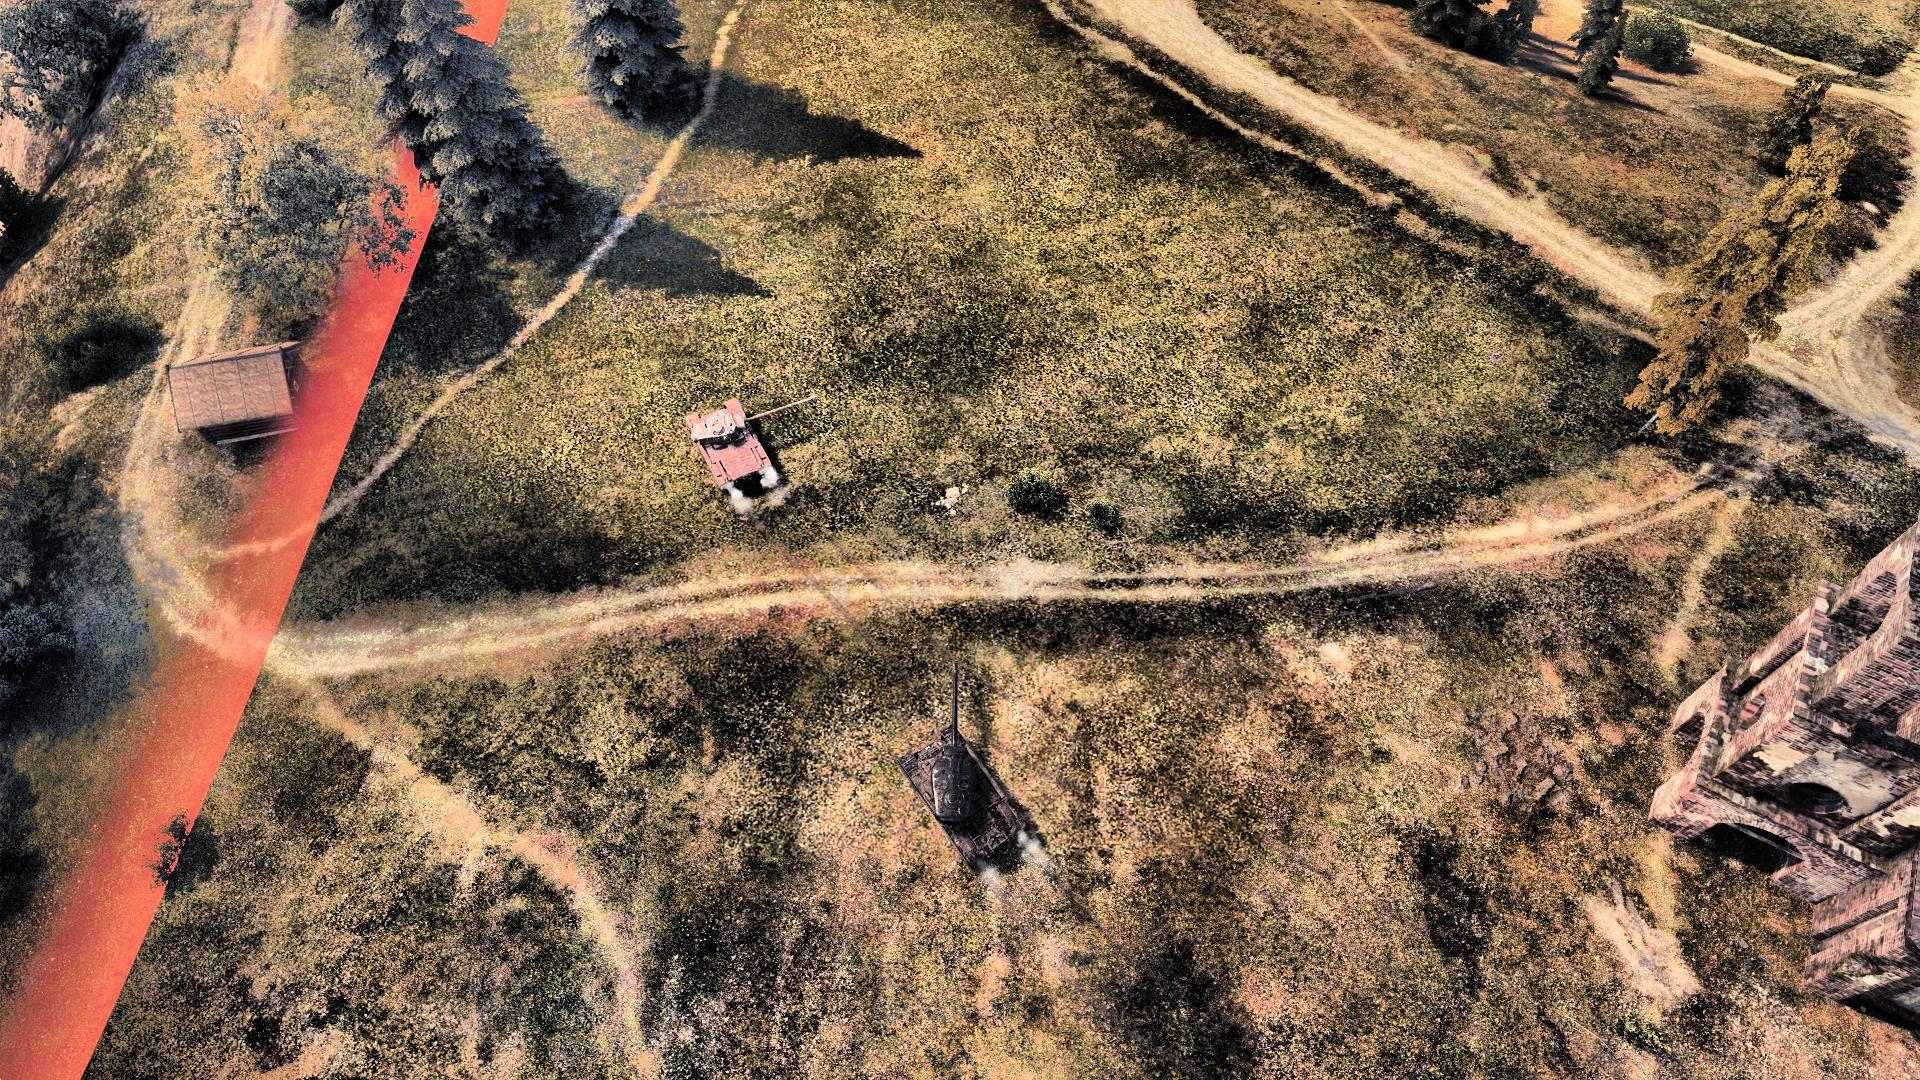military-vehicle: (898, 661, 1030, 873), (687, 390, 819, 497)
